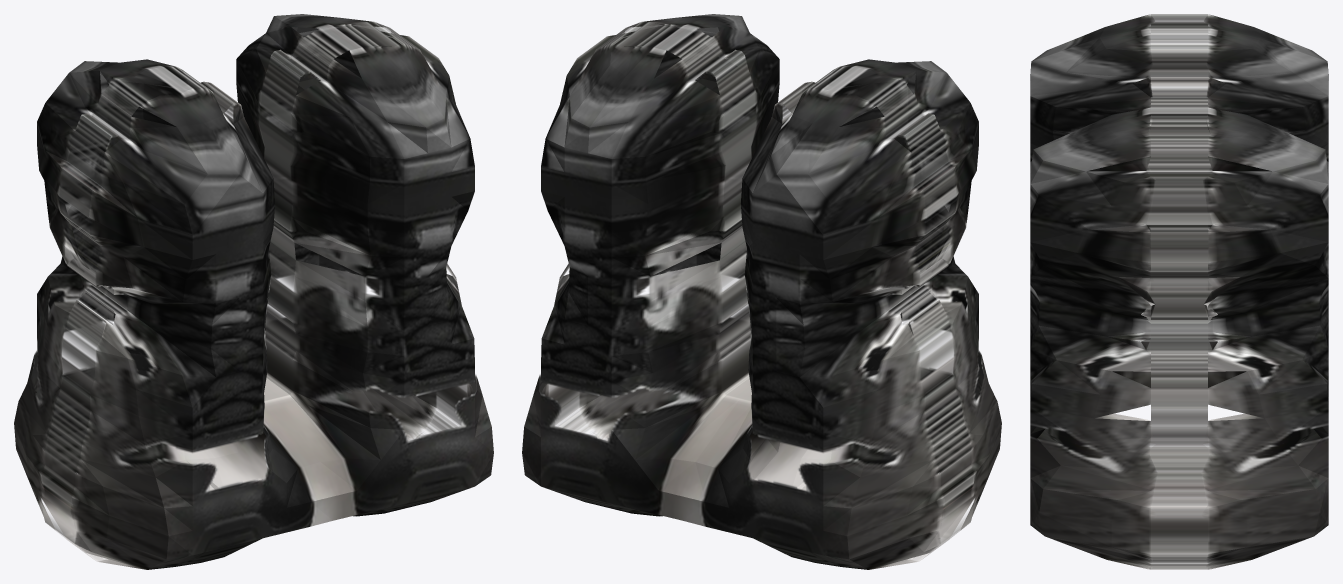
File: schuberth-nomad-urban-riding-shoe-135.glb
3 renders of one model, left to right at view 1: azimuth 30°, elevation 25°; view 2: azimuth 150°, elevation 25°; view 3: azimuth 270°, elevation 25°, orthographic. The views are drawn at different scales.
Visible parts, largest first — view 1: world; view 2: world; view 3: world.
Part boxes in pixels (left/top/right/bottom): world: left=14, top=14, right=493, bottom=569; world: left=522, top=14, right=1001, bottom=569; world: left=1030, top=14, right=1328, bottom=569.
Bounding box in the file's own units: 0.9097 × 1 × 0.62.
Materials: 1 (1 with a texture image).
